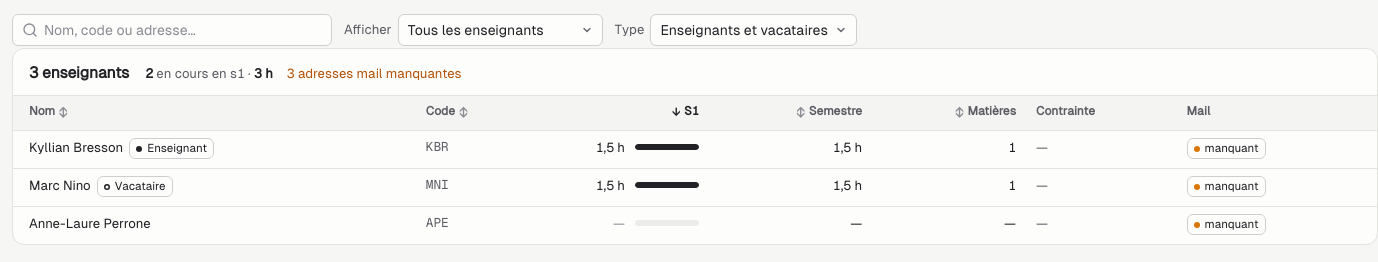
Une seule source pour le type › annuaire de la Vue Enseignant : pastille du type, filtre par type
Expected: the text "Vacataire" is shown, [97,176,172,197]
Select "Vacataires" in the dropdown labelled "Type" at (754, 30), box [650,14,857,46]
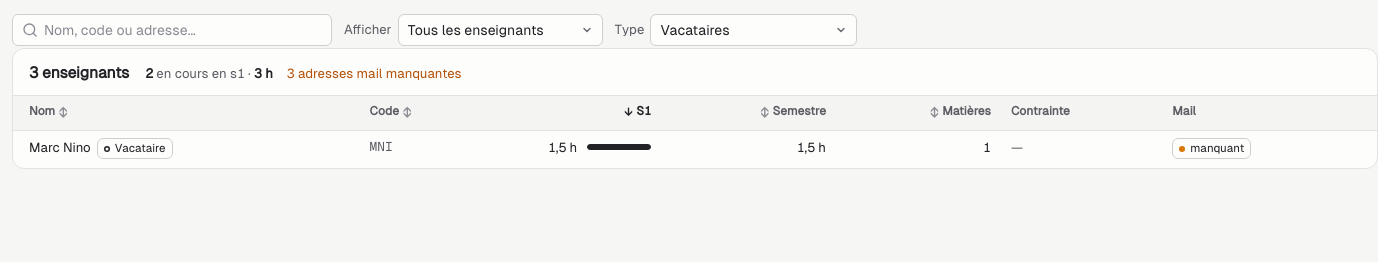
Expected: the button "Marc Nino" is shown, [29,138,91,156]
Now the button "Kyllian Bresson" is gone
Select "Type à préciser" in the dropdown labelled "Type" at (754, 30), box [650,14,857,46]
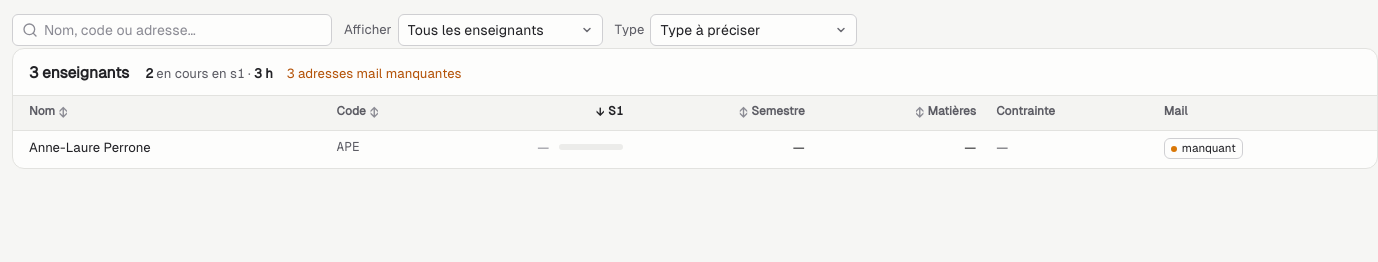
Now the button "Anne-Laure Perrone" is shown, box [29,138,151,156]
Now the button "Marc Nino" is gone
Select "Enseignants" in the dropdown labelled "Type" at (754, 30), box [650,14,857,46]
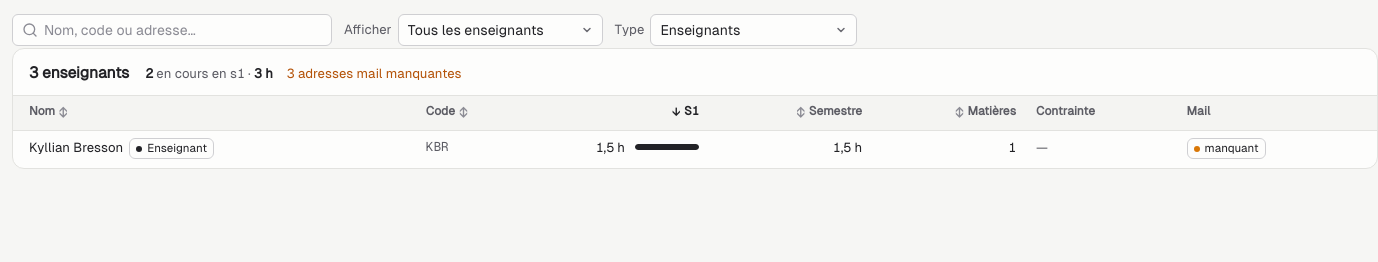
Now the button "Kyllian Bresson" is shown, box [29,138,123,156]
